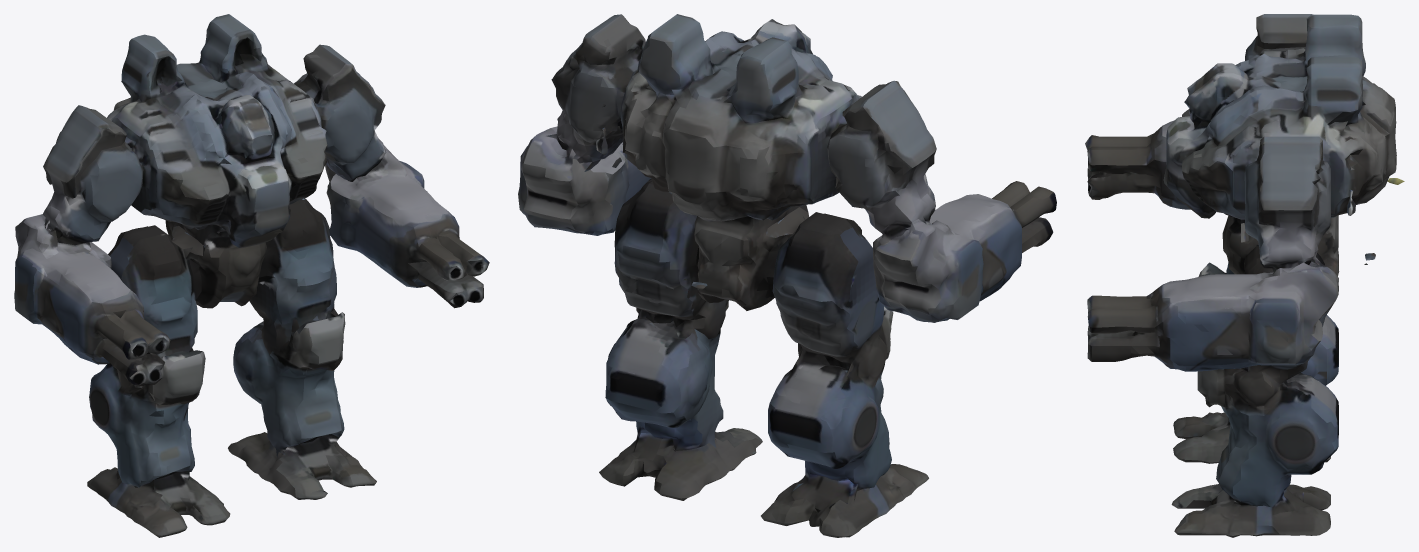
The model's file is Biped.glb.
3 views of the same model, side by side, from view 1: azimuth 30°, elevation 25°; view 2: azimuth 150°, elevation 25°; view 3: azimuth 270°, elevation 25° (orthographic). The views are drawn at different scales.
Visible parts, largest first — view 1: tmpliuabtrc.ply; view 2: tmpliuabtrc.ply; view 3: tmpliuabtrc.ply.
Boxes of the visible parts, bbox=[...] form: tmpliuabtrc.ply: bbox=[14, 14, 489, 537]; tmpliuabtrc.ply: bbox=[518, 14, 1056, 537]; tmpliuabtrc.ply: bbox=[1085, 14, 1404, 537].
Size of the model in its own units: 1.9 by 1.93 by 1.27.
1 material, 1 textured.
